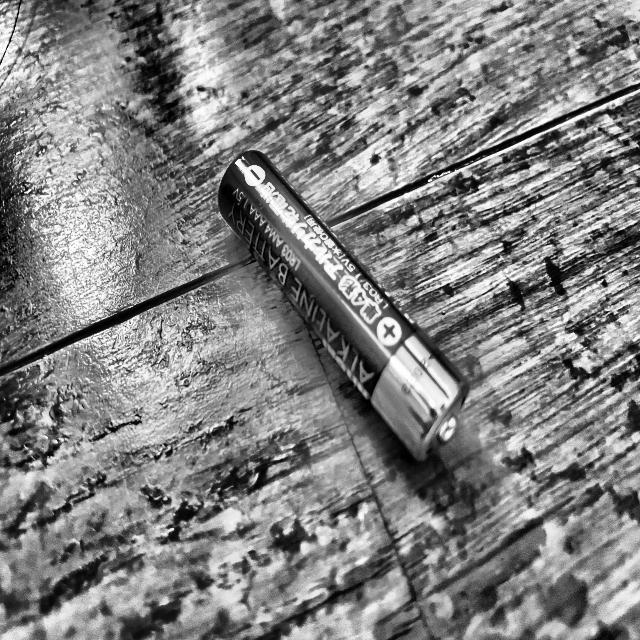drycell: (216, 149, 475, 465)
